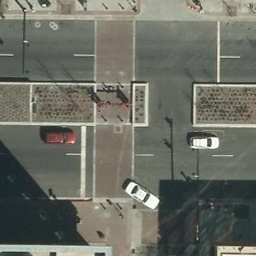car: (124, 182, 161, 208), (188, 133, 220, 151), (45, 128, 76, 145)
